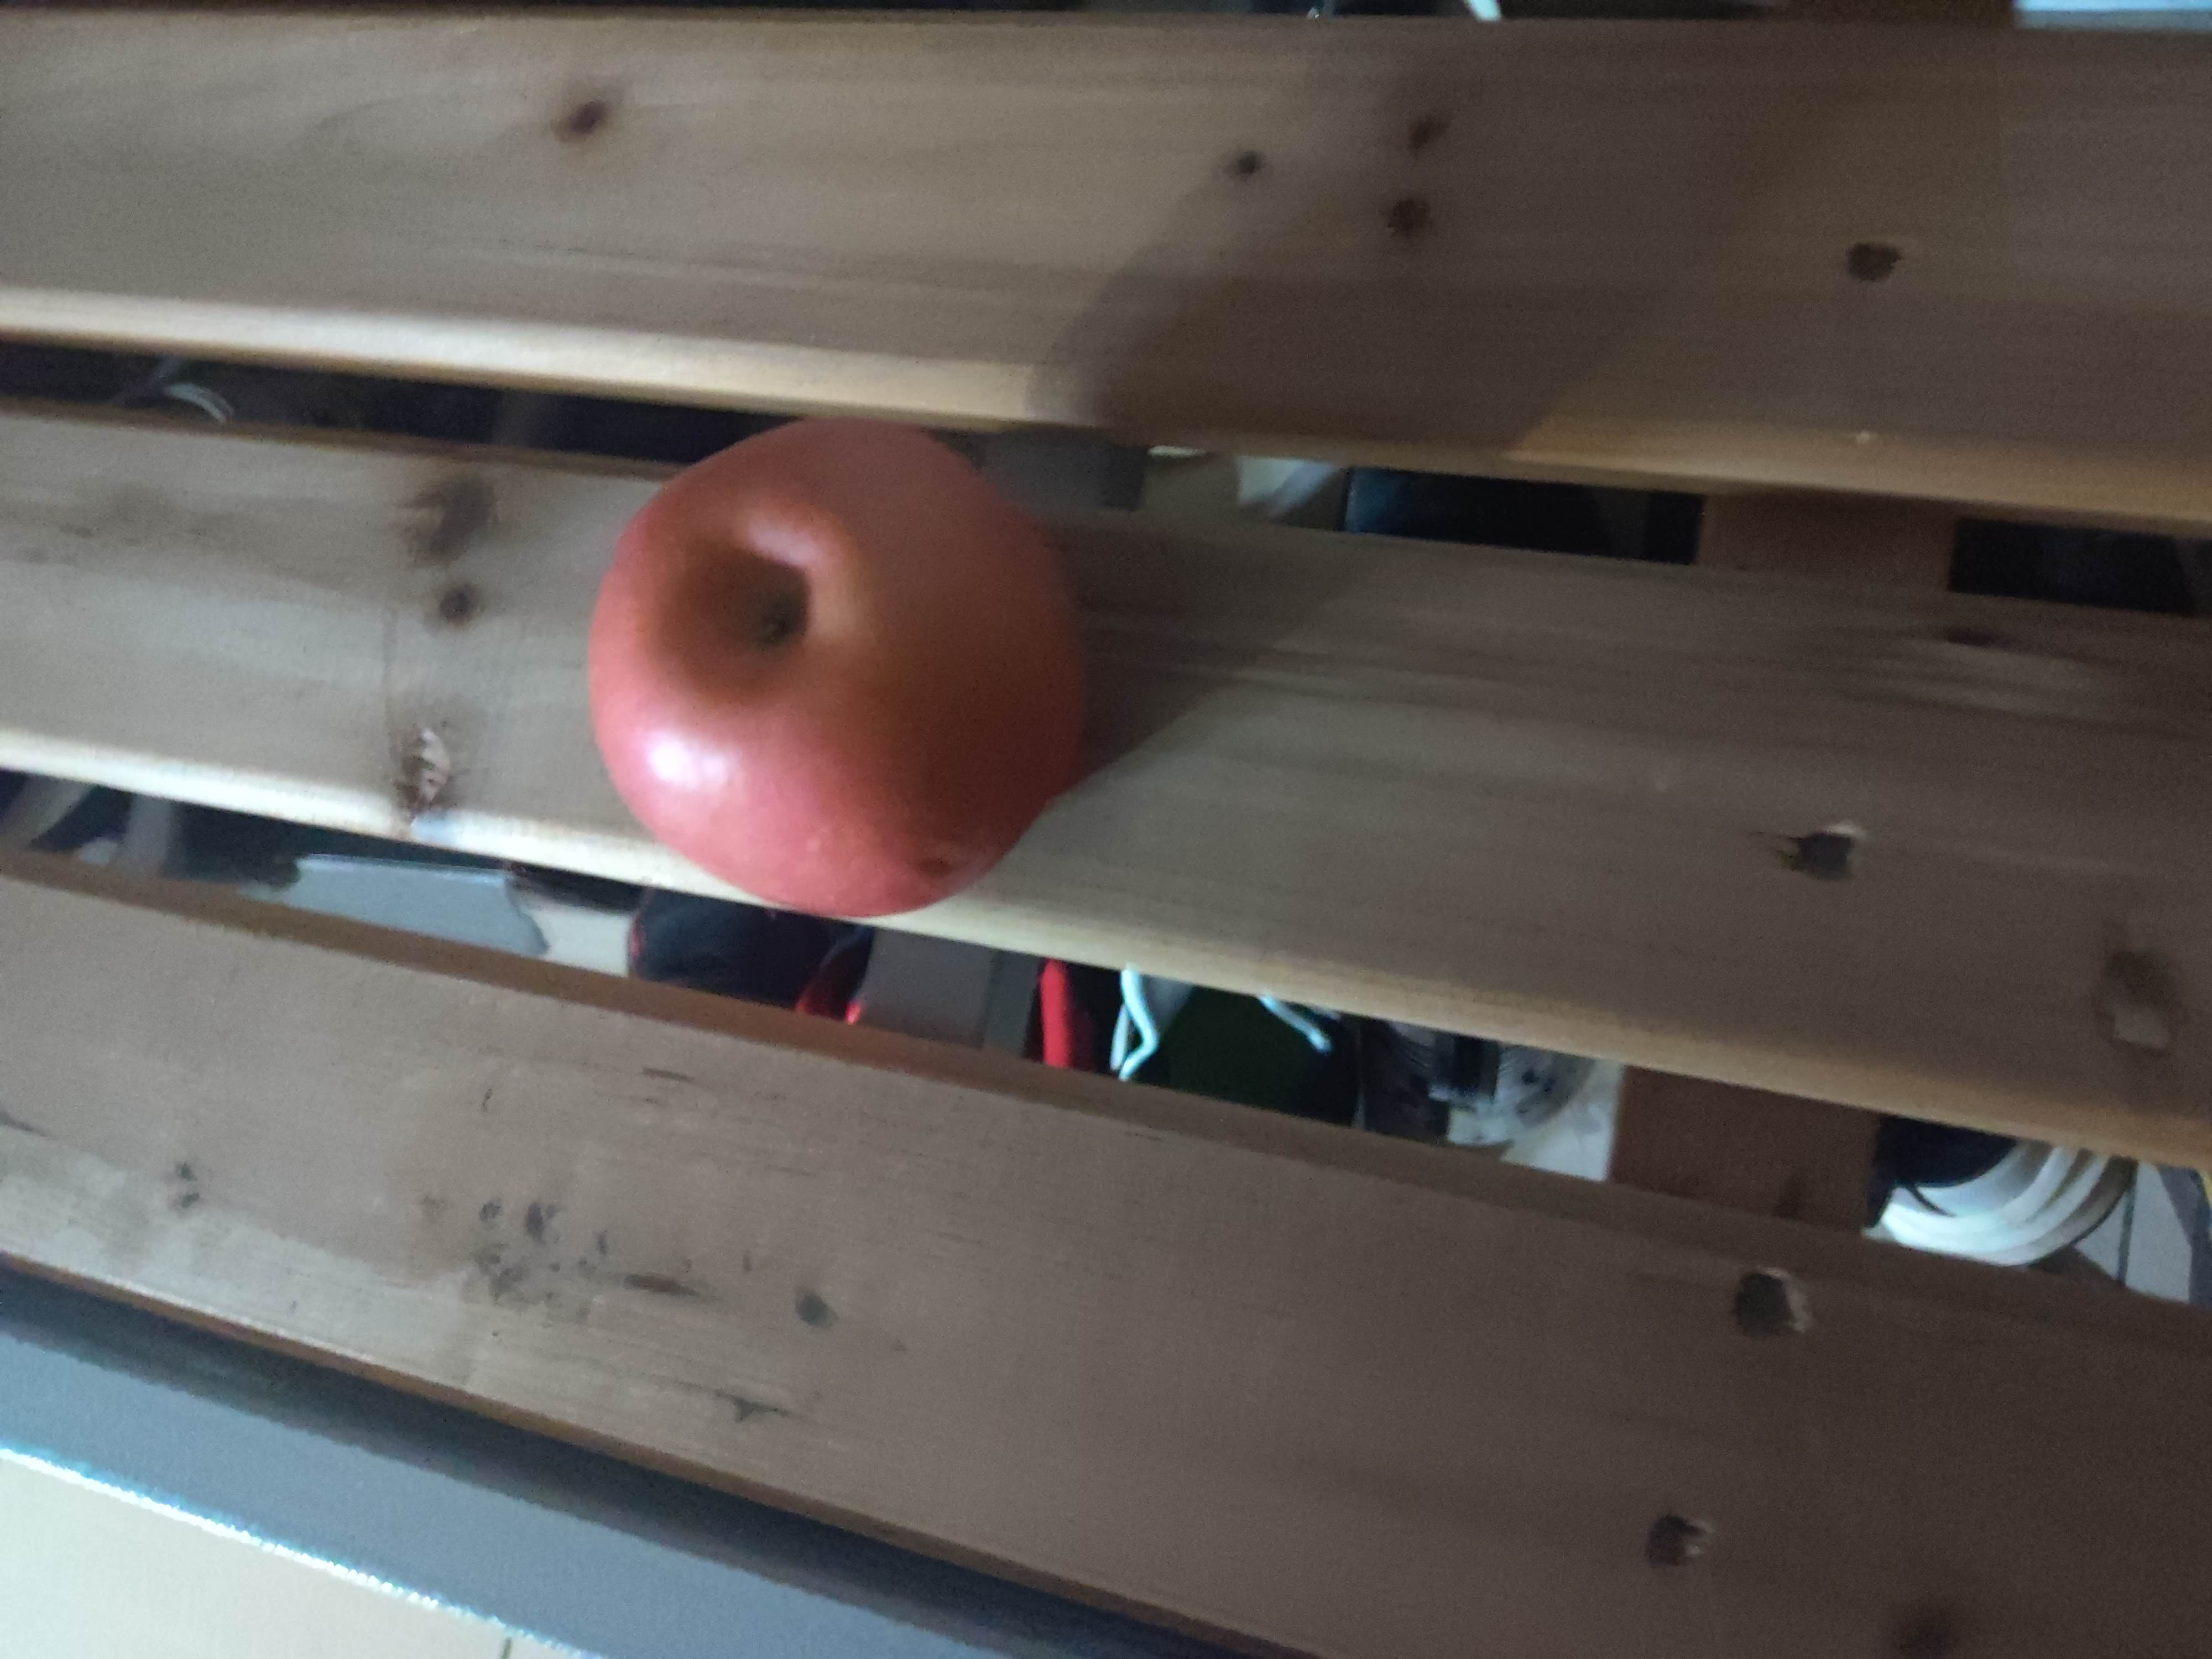apple: (582, 415, 1090, 917)
